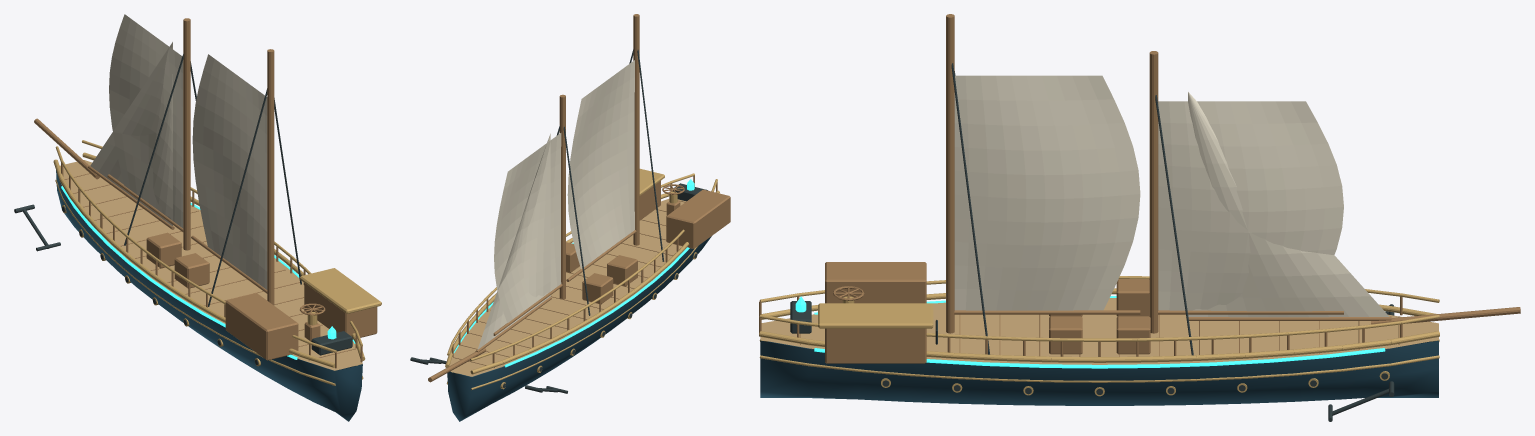
File: premium_golden_clipper.glb
The picture shows the model from 3 angles, left to right: view 1: azimuth 30°, elevation 25°; view 2: azimuth 150°, elevation 25°; view 3: azimuth 270°, elevation 25°; orthographic projection. The views are drawn at different scales.
Parts seen in each view (by area): view 1: premium_golden_clipper; view 2: premium_golden_clipper; view 3: premium_golden_clipper.
Part boxes in pixels (<box>): premium_golden_clipper: <box>14,14,381,421</box>; premium_golden_clipper: <box>410,14,730,421</box>; premium_golden_clipper: <box>759,14,1520,421</box>.
Bounding box in the file's own units: 4.5 × 8.7 × 15.71.
